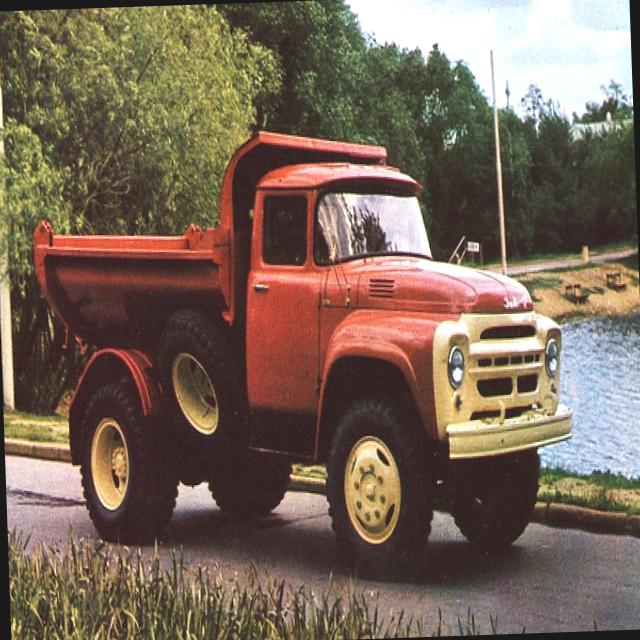Vehicle: (29, 120, 579, 593)
